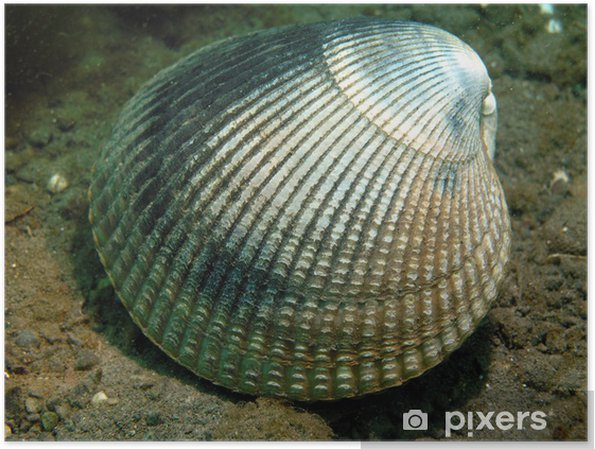cockle: (87, 19, 517, 406)
